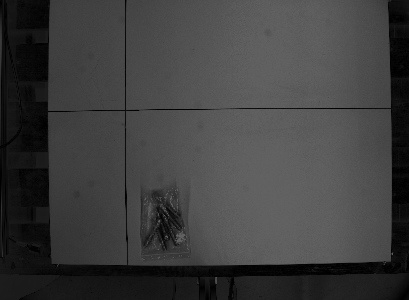t2: (136, 179, 193, 263)
